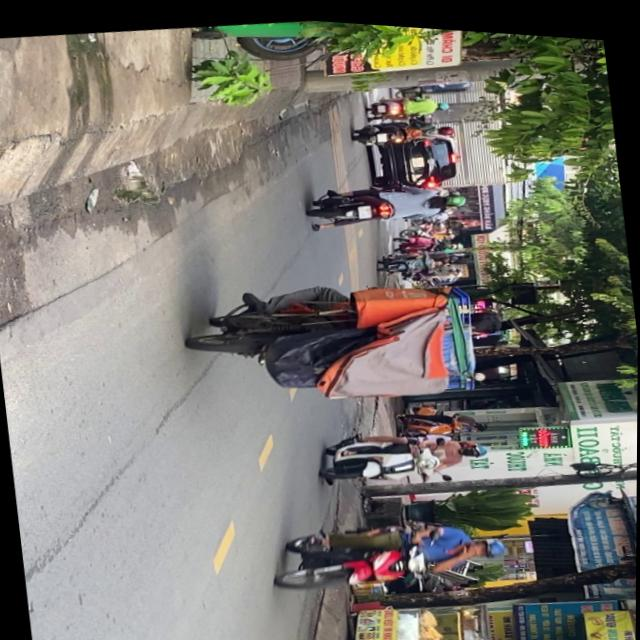helmet: (467, 527, 509, 554), (441, 185, 470, 204), (463, 435, 492, 453)
licenseplate: (270, 494, 515, 605), (315, 409, 496, 492), (306, 165, 472, 234)
motorcyclist: (456, 299, 504, 334)
nohelmet: (358, 199, 373, 214)
